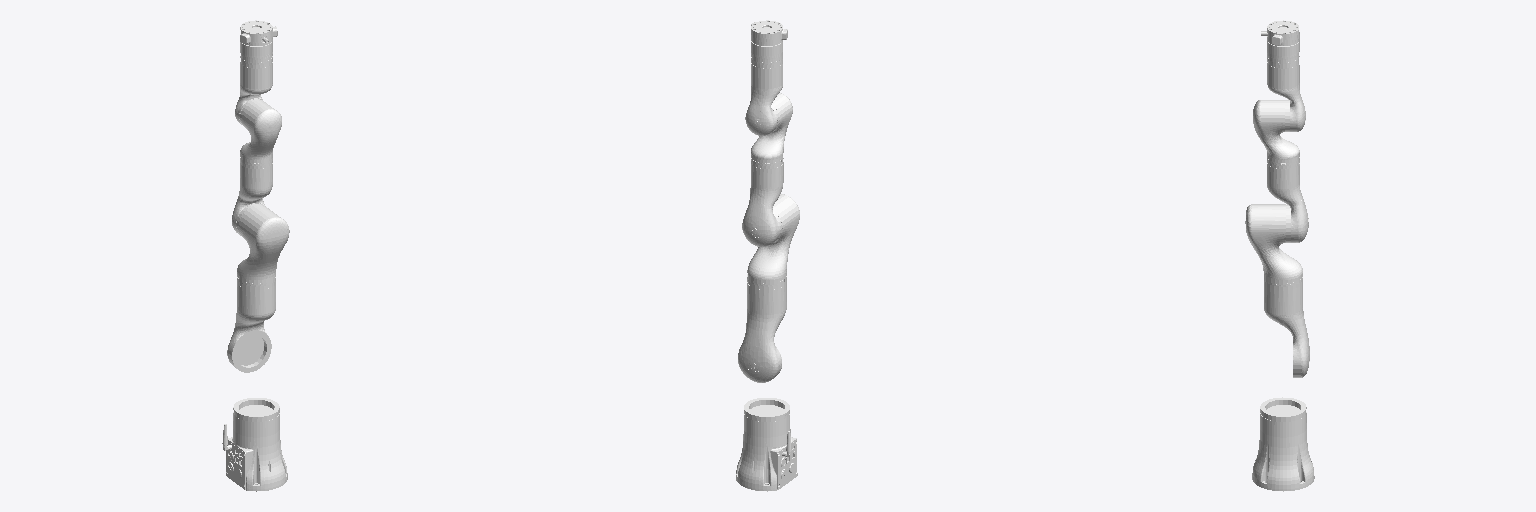
robot.urdf — rm_75_6f_description:
<?xml version="1.0" encoding="utf-8"?>
<!-- This URDF was automatically created by SolidWorks to URDF Exporter! Originally created by Stephen Brawner (brawner@gmail.com) 
     Commit Version: 1.5.1-0-g916b5db  Build Version: 1.5.7152.31018
     For more information, please see http://wiki.ros.org/sw_urdf_exporter -->
<robot
  name="rm_75_6f_description">
  <link
    name="base_link">
    <inertial>
      <origin
        xyz="0.000433277303987401 3.54664423466535E-05 0.0599427668933797"
        rpy="0 0 0" />
      <mass
        value="0.841070778135658" />
      <inertia
        ixx="0.0017261110801622"
        ixy="2.52746264978927E-06"
        ixz="3.67690303614989E-05"
        iyy="0.00170987405835604"
        iyz="-1.67996364995499E-06"
        izz="0.000904023422915791" />
    </inertial>
    <visual>
      <origin
        xyz="0 0 0"
        rpy="0 0 0" />
      <geometry>
        <mesh
          filename="package://rm_75_6f_description/meshes/base_link.STL" />
      </geometry>
      <material
        name="">
        <color
          rgba="1 1 1 1" />
      </material>
    </visual>
    <collision>
      <origin
        xyz="0 0 0"
        rpy="0 0 0" />
      <geometry>
        <mesh
          filename="package://rm_75_6f_description/meshes/base_link.STL" />
      </geometry>
    </collision>
  </link>
  <link
    name="link1">
    <inertial>
      <origin
        xyz="0.0251854224372461 1.19160585601655E-08 -0.021107996993288"
        rpy="0 0 0" />
      <mass
        value="0.593563458735581" />
      <inertia
        ixx="0.000561352422092522"
        ixy="9.8019294192418E-09"
        ixz="-0.000211217278563478"
        iyy="0.00126614121202124"
        iyz="1.29510293158304E-08"
        izz="0.0011816817861243" />
    </inertial>
    <visual>
      <origin
        xyz="0 0 0"
        rpy="0 0 0" />
      <geometry>
        <mesh
          filename="package://rm_75_6f_description/meshes/link1.STL" />
      </geometry>
      <material
        name="">
        <color
          rgba="1 1 1 1" />
      </material>
    </visual>
    <collision>
      <origin
        xyz="0 0 0"
        rpy="0 0 0" />
      <geometry>
        <mesh
          filename="package://rm_75_6f_description/meshes/link1.STL" />
      </geometry>
    </collision>
  </link>
  <joint
    name="joint1"
    type="revolute">
    <origin
      xyz="0 0 0.2405"
      rpy="-1.5708 1.5708 0" />
    <parent
      link="base_link" />
    <child
      link="link1" />
    <axis
      xyz="-1 0 0" />
    <limit
      lower="-3.1"
      upper="3.1"
      effort="100"
      velocity="1" />
  </joint>
  <link
    name="link2">
    <inertial>
      <origin
        xyz="2.7262556517039E-07 0.0110777530405497 0.0761295106404559"
        rpy="0 0 0" />
      <mass
        value="0.43284977038563" />
      <inertia
        ixx="0.00125838173894872"
        ixy="5.63150570493861E-09"
        ixz="1.3347594970318E-09"
        iyy="0.00122245448146859"
        iyz="0.000279003475833934"
        izz="0.000317474184365689" />
    </inertial>
    <visual>
      <origin
        xyz="0 0 0"
        rpy="0 0 0" />
      <geometry>
        <mesh
          filename="package://rm_75_6f_description/meshes/link2.STL" />
      </geometry>
      <material
        name="">
        <color
          rgba="1 1 1 1" />
      </material>
    </visual>
    <collision>
      <origin
        xyz="0 0 0"
        rpy="0 0 0" />
      <geometry>
        <mesh
          filename="package://rm_75_6f_description/meshes/link2.STL" />
      </geometry>
    </collision>
  </link>
  <joint
    name="joint2"
    type="revolute">
    <origin
      xyz="0 0 0"
      rpy="1.5708 0 -1.5708" />
    <parent
      link="link1" />
    <child
      link="link2" />
    <axis
      xyz="0 1 0" />
    <limit
      lower="-2.268"
      upper="2.268"
      effort="100"
      velocity="1" />
  </joint>
  <link
    name="link3">
    <inertial>
      <origin
        xyz="6.76244012218133E-07 0.0273475405599722 -0.0235440121241671"
        rpy="0 0 0" />
      <mass
        value="0.43132549836324" />
      <inertia
        ixx="0.000794332779169285"
        ixy="1.033423629823E-08"
        ixz="-2.32895479411934E-09"
        iyy="0.000315065344978516"
        iyz="-0.000142620543385114"
        izz="0.000730371137429436" />
    </inertial>
    <visual>
      <origin
        xyz="0 0 0"
        rpy="0 0 0" />
      <geometry>
        <mesh
          filename="package://rm_75_6f_description/meshes/link3.STL" />
      </geometry>
      <material
        name="">
        <color
          rgba="1 1 1 1" />
      </material>
    </visual>
    <collision>
      <origin
        xyz="0 0 0"
        rpy="0 0 0" />
      <geometry>
        <mesh
          filename="package://rm_75_6f_description/meshes/link3.STL" />
      </geometry>
    </collision>
  </link>
  <joint
    name="joint3"
    type="revolute">
    <origin
      xyz="0 0 0.256"
      rpy="-1.5708 0 0" />
    <parent
      link="link2" />
    <child
      link="link3" />
    <axis
      xyz="0 -1 0" />
    <limit
      lower="-3.1"
      upper="3.1"
      effort="100"
      velocity="1" />
  </joint>
  <link
    name="link4">
    <inertial>
      <origin
        xyz="5.04435772849126E-06 0.0105690694886994 0.0595925665960614"
        rpy="0 0 0" />
      <mass
        value="0.289633677976838" />
      <inertia
        ixx="0.000637371003712755"
        ixy="-3.86660746168939E-08"
        ixz="7.05219343969005E-08"
        iyy="0.000614178165177249"
        iyz="0.000144610362096283"
        izz="0.000156483879154188" />
    </inertial>
    <visual>
      <origin
        xyz="0 0 0"
        rpy="0 0 0" />
      <geometry>
        <mesh
          filename="package://rm_75_6f_description/meshes/link4.STL" />
      </geometry>
      <material
        name="">
        <color
          rgba="1 1 1 1" />
      </material>
    </visual>
    <collision>
      <origin
        xyz="0 0 0"
        rpy="0 0 0" />
      <geometry>
        <mesh
          filename="package://rm_75_6f_description/meshes/link4.STL" />
      </geometry>
    </collision>
  </link>
  <joint
    name="joint4"
    type="revolute">
    <origin
      xyz="0 0 0"
      rpy="1.5708 0 0" />
    <parent
      link="link3" />
    <child
      link="link4" />
    <axis
      xyz="0 1 0" />
    <limit
      lower="-2.355"
      upper="2.355"
      effort="100"
      velocity="1" />
  </joint>
  <link
    name="link5">
    <inertial>
      <origin
        xyz="1.20058499385103E-06 0.0215396207685836 -0.0180422843156961"
        rpy="0 0 0" />
      <mass
        value="0.239420806534328" />
      <inertia
        ixx="0.000285941487360903"
        ixy="1.8435447295355E-09"
        ixz="2.661147474991E-09"
        iyy="0.000119889615822505"
        iyz="-4.42378775935117E-05"
        izz="0.00026272880463549" />
    </inertial>
    <visual>
      <origin
        xyz="0 0 0"
        rpy="0 0 0" />
      <geometry>
        <mesh
          filename="package://rm_75_6f_description/meshes/link5.STL" />
      </geometry>
      <material
        name="">
        <color
          rgba="1 1 1 1" />
      </material>
    </visual>
    <collision>
      <origin
        xyz="0 0 0"
        rpy="0 0 0" />
      <geometry>
        <mesh
          filename="package://rm_75_6f_description/meshes/link5.STL" />
      </geometry>
    </collision>
  </link>
  <joint
    name="joint5"
    type="revolute">
    <origin
      xyz="0 0 0.21"
      rpy="-1.5708 0 0" />
    <parent
      link="link4" />
    <child
      link="link5" />
    <axis
      xyz="0 -1 0" />
    <limit
      lower="-3.1"
      upper="3.1"
      effort="100"
      velocity="1" />
  </joint>
  <link
    name="link6">
    <inertial>
      <origin
        xyz="7.54170512885284E-05 0.0073676461267092 0.0593810348383922"
        rpy="0 0 0" />
      <mass
        value="0.218794488512749" />
      <inertia
        ixx="0.000350537248388584"
        ixy="-1.74938024183535E-07"
        ixz="7.97572214566614E-07"
        iyy="0.000334482087592348"
        iyz="7.82388187994077E-05"
        izz="0.000104925337091505" />
    </inertial>
    <visual>
      <origin
        xyz="0 0 0"
        rpy="0 0 0" />
      <geometry>
        <mesh
          filename="package://rm_75_6f_description/meshes/link6.STL" />
      </geometry>
      <material
        name="">
        <color
          rgba="1 1 1 1" />
      </material>
    </visual>
    <collision>
      <origin
        xyz="0 0 0"
        rpy="0 0 0" />
      <geometry>
        <mesh
          filename="package://rm_75_6f_description/meshes/link6.STL" />
      </geometry>
    </collision>
  </link>
  <joint
    name="joint6"
    type="revolute">
    <origin
      xyz="0 0 0"
      rpy="1.5708 0 0" />
    <parent
      link="link5" />
    <child
      link="link6" />
    <axis
      xyz="0 1 0" />
    <limit
      lower="-2.233"
      upper="2.233"
      effort="100"
      velocity="1" />
  </joint>
  <link
    name="link7">
    <inertial>
      <origin
        xyz="3.28549696566476E-06 -0.000366956338903309 -0.0287585831092962"
        rpy="0 0 0" />
      <mass
        value="0.144833801127365" />
      <inertia
        ixx="6.91327515097893E-05"
        ixy="4.58517858066749E-08"
        ixz="-1.63183091801191E-08"
        iyy="7.21458116364664E-05"
        iyz="9.04030077048558E-07"
        izz="6.18207201489242E-05" />
    </inertial>
    <visual>
      <origin
        xyz="0 0 0"
        rpy="0 0 0" />
      <geometry>
        <mesh
          filename="package://rm_75_6f_description/meshes/link7.STL" />
      </geometry>
      <material
        name="">
        <color
          rgba="1 1 1 1" />
      </material>
    </visual>
    <collision>
      <origin
        xyz="0 0 0"
        rpy="0 0 0" />
      <geometry>
        <mesh
          filename="package://rm_75_6f_description/meshes/link7.STL" />
      </geometry>
    </collision>
  </link>
  <joint
    name="joint7"
    type="revolute">
    <origin
      xyz="0 0 0.1725"
      rpy="0 0 0" />
    <parent
      link="link6" />
    <child
      link="link7" />
    <axis
      xyz="0 0 1" />
    <limit
      lower="-6.28"
      upper="6.28"
      effort="100"
      velocity="1" />
  </joint>
</robot>

--- What the picture shows (computed from the rendered views, not written in the file) ---
The picture shows the robot from 3 angles, left to right: view 1: azimuth 30°, elevation 25°; view 2: azimuth 150°, elevation 25°; view 3: azimuth 270°, elevation 25°; orthographic projection.
Model rm_75_6f_description with 8 links and 7 joints (7 revolute), rooted at base_link, posed every joint at zero.
Links seen in each view (by area): view 1: base_link, link2, link3, link5, link4, link7, link6; view 2: base_link, link2, link4, link3, link6, link5, link7; view 3: base_link, link3, link2, link5, link4, link6, link7.
Link boxes in pixels (<box>): base_link: <box>222,398,287,491</box>; link2: <box>227,279,275,372</box>; link3: <box>236,203,289,284</box>; link5: <box>239,98,281,164</box>; link4: <box>232,159,272,235</box>; link7: <box>240,20,277,63</box>; link6: <box>235,57,272,124</box>; base_link: <box>736,398,797,491</box>; link2: <box>738,278,786,382</box>; link4: <box>742,158,783,246</box>; link3: <box>747,194,799,284</box>; link6: <box>745,58,782,135</box>; link5: <box>751,93,792,164</box>; link7: <box>751,20,787,63</box>; base_link: <box>1252,397,1314,491</box>; link3: <box>1245,204,1302,284</box>; link2: <box>1264,279,1309,377</box>; link5: <box>1253,100,1299,164</box>; link4: <box>1267,159,1308,242</box>; link6: <box>1267,58,1305,131</box>; link7: <box>1261,20,1299,63</box>.
Bounding box of the posed robot: 0.1143 × 0.122 × 0.879 m (x, y, z).
7 mesh visuals loaded from 8 distinct referenced files (7 binary STL); not drawn: 1 (reference not matched to a file when rendering).
